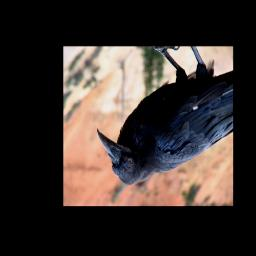Crow: (96, 47, 233, 189)
